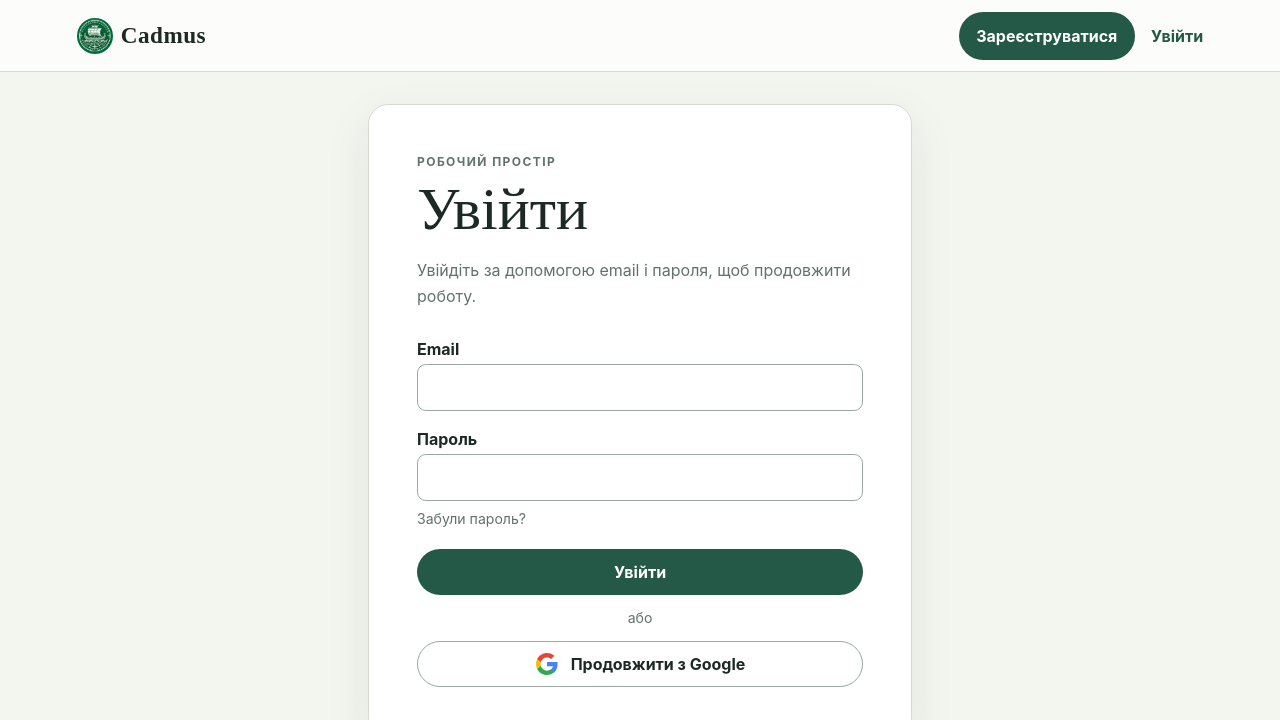
Scenario: shows the controlled login error for HTTP 401
The width and height of the screenshot is (1280, 720).
Expected: the heading "Увійти" is shown, [417, 176, 588, 242]
Type "user@example.com" into the field labelled "Email" at (640, 387), box [417, 364, 863, 411]
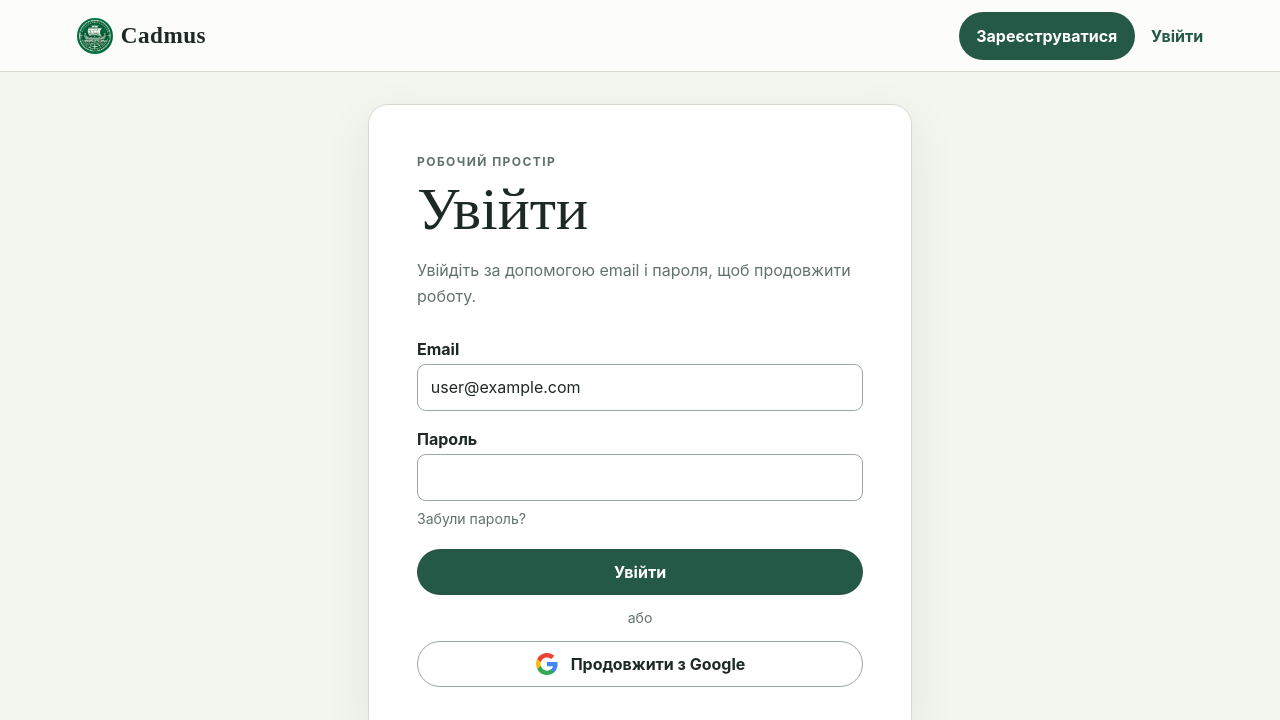
Type "wrong-password" into the password field labelled "Пароль" at (640, 477), box [417, 454, 863, 501]
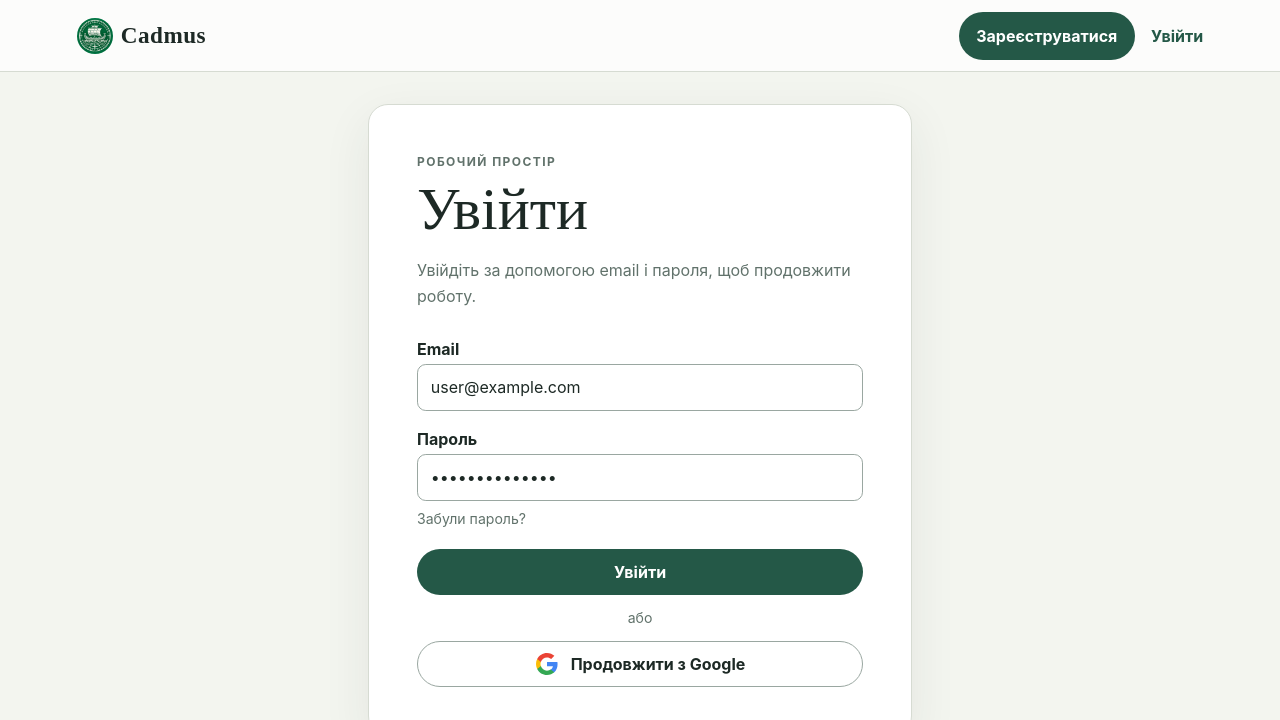
Click the button "Увійти" at (640, 572), box [417, 549, 863, 595]
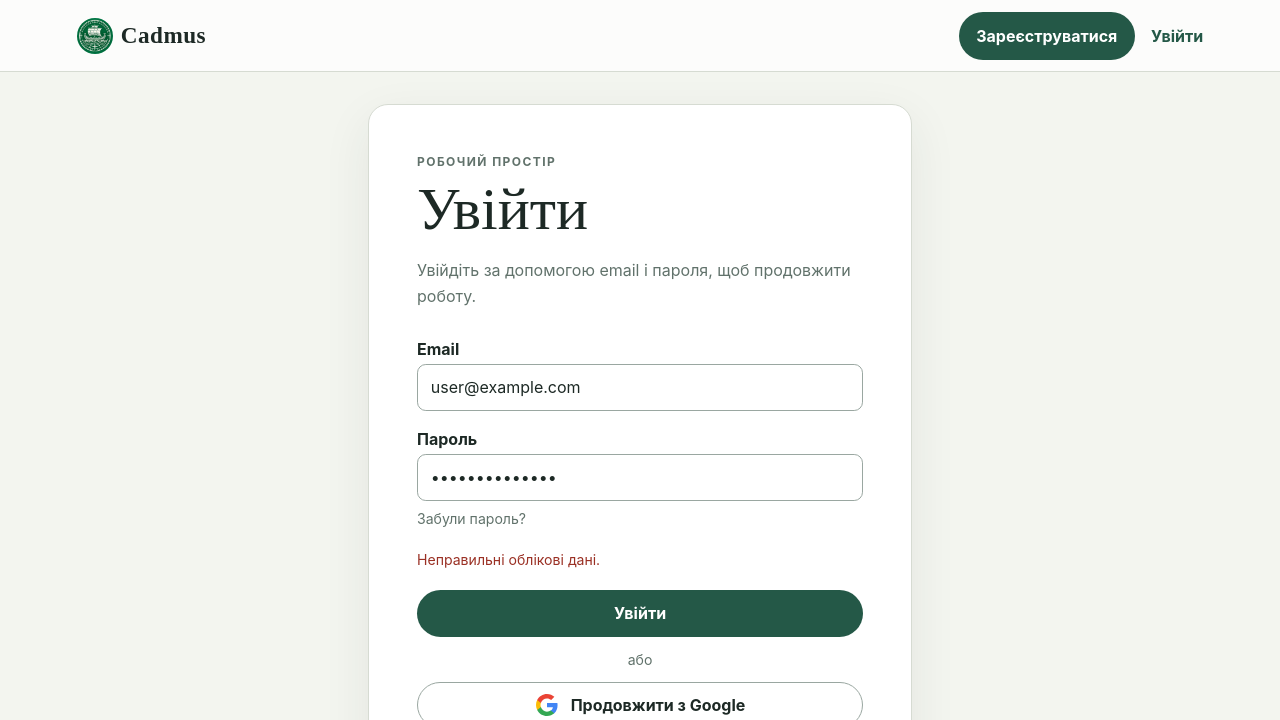
Result: the message reads "Неправильні облікові дані." at [417, 551, 600, 568]
